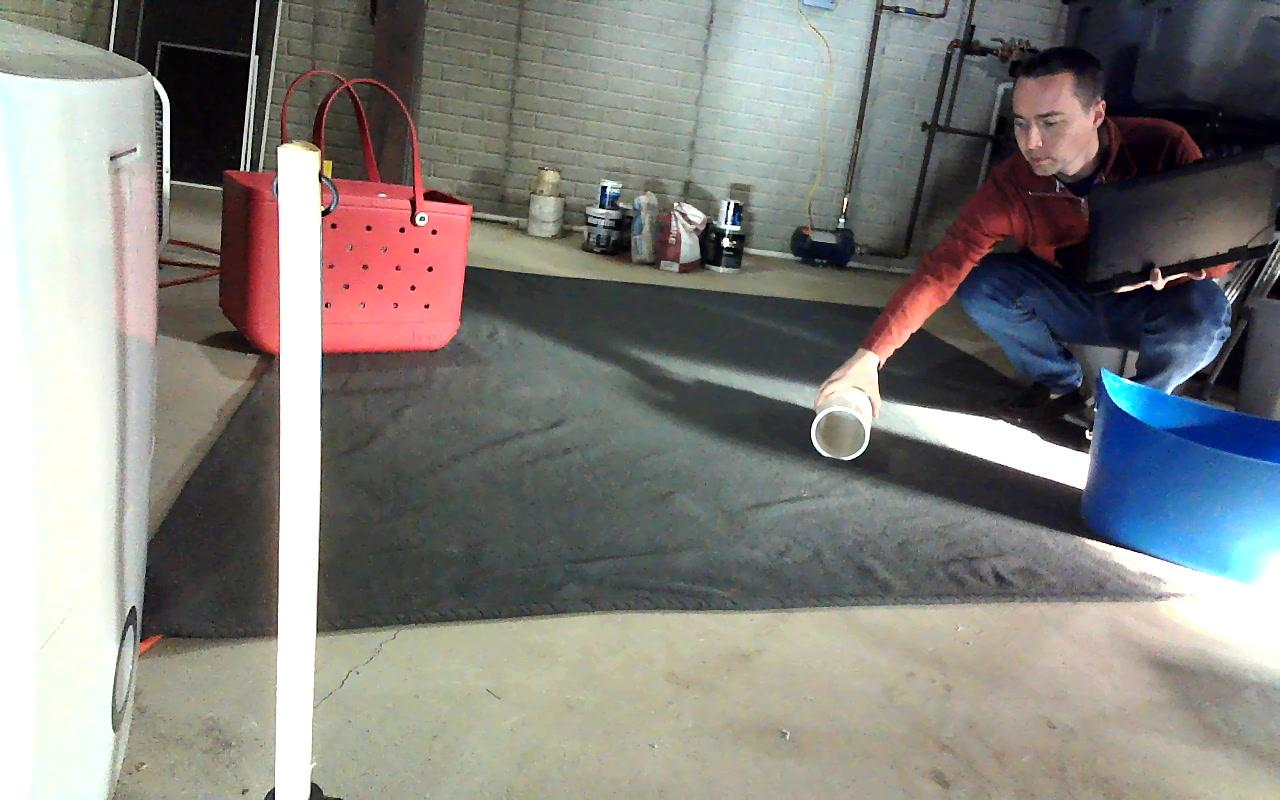coral: (811, 356, 878, 459)
